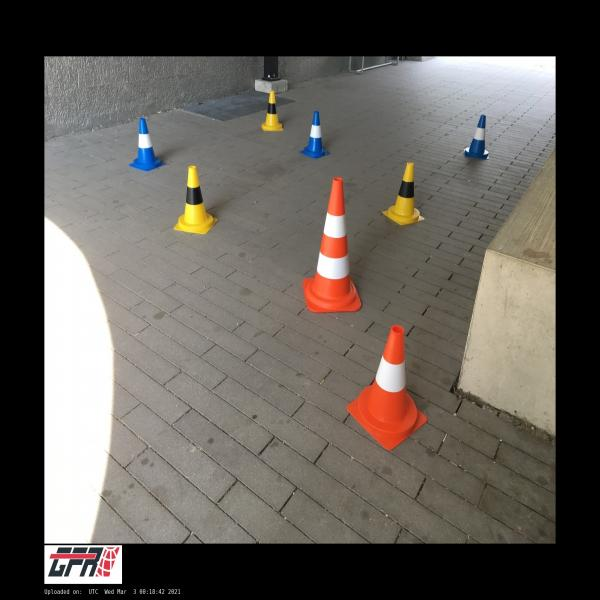blue_cone: (128, 117, 166, 171), (300, 112, 330, 157), (464, 114, 488, 160)
large_orange_cone: (303, 178, 362, 312)
orange_cone: (346, 324, 428, 451)
yellow_cone: (173, 166, 217, 234), (382, 162, 424, 225), (262, 90, 284, 131)
